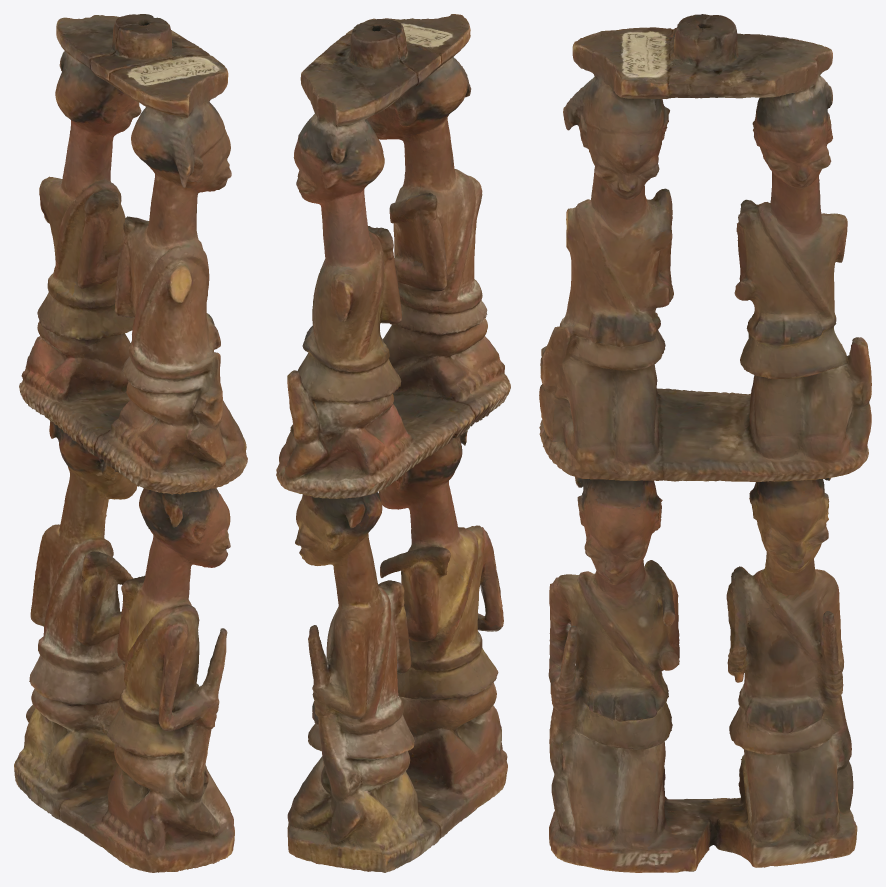
The model's file is preview.glb.
The picture shows the model from 3 angles, left to right: view 1: azimuth 30°, elevation 25°; view 2: azimuth 150°, elevation 25°; view 3: azimuth 270°, elevation 25°; orthographic projection. The views are drawn at different scales.
Visible parts, largest first — view 1: Model_Material.001_0; view 2: Model_Material.001_0; view 3: Model_Material.001_0.
Part boxes in pixels (x1,y1,x2,y2): Model_Material.001_0: [14, 14, 247, 872]; Model_Material.001_0: [276, 14, 510, 872]; Model_Material.001_0: [539, 14, 871, 872].
Bounding box in the file's own units: 189 × 1145 × 416.
1 material, 1 textured.
